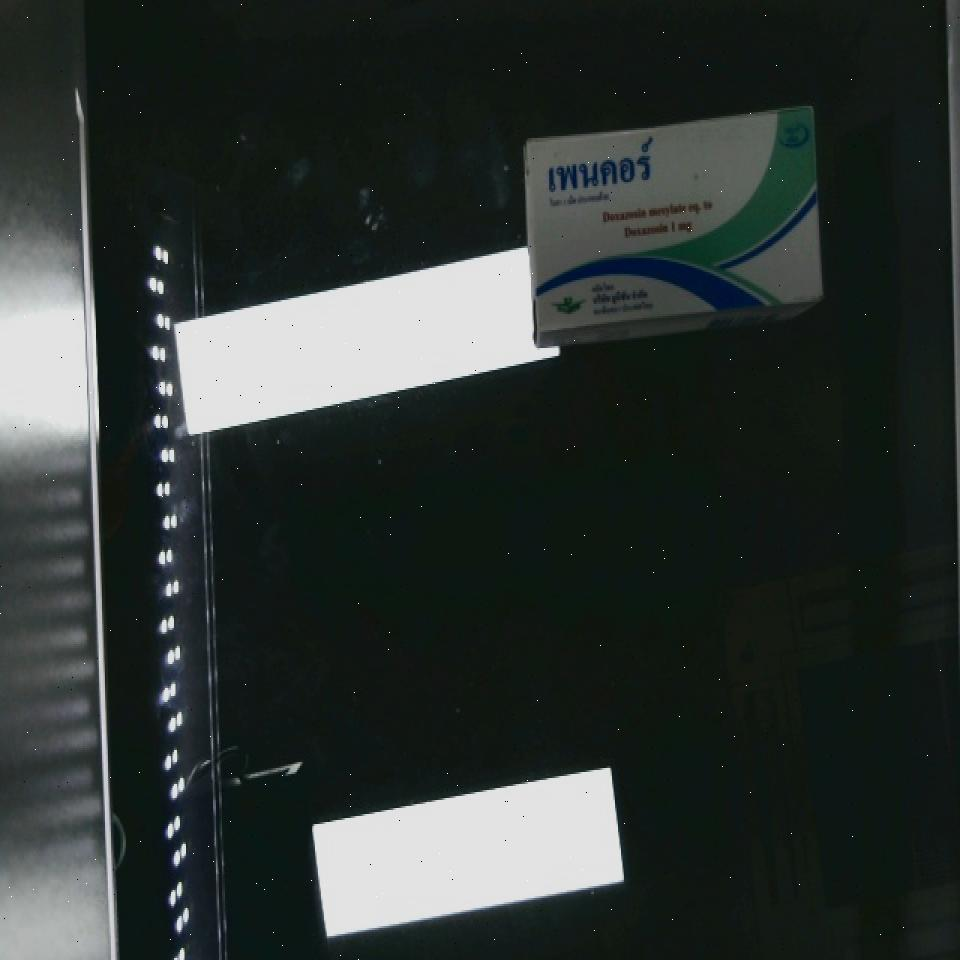medicine_box: (510, 103, 836, 329)
medicine_label_obb: (529, 127, 678, 204)
